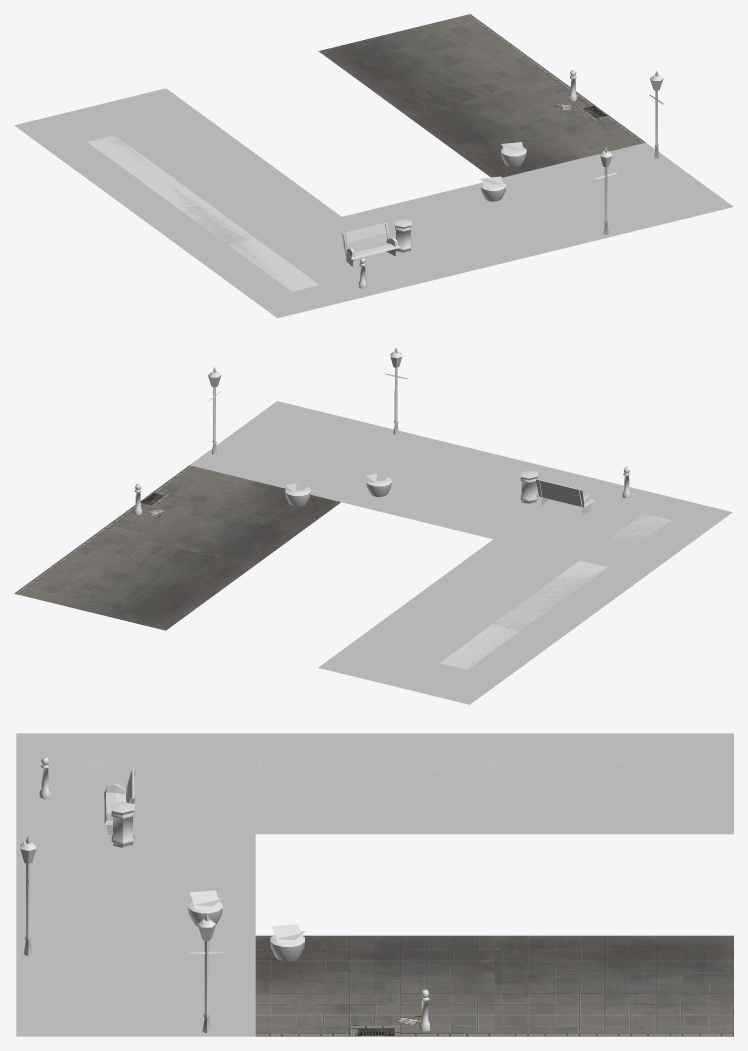
The model's file is propsonly_c8.gltf.
3 views of the same model, one above another, from view 1: azimuth 30°, elevation 25°; view 2: azimuth 150°, elevation 25°; view 3: azimuth 270°, elevation 25° (orthographic). The views are drawn at different scales.
Visible parts, largest first — view 1: file_c8_endr, file_c8_corner3, file_c8_center2, file_c8_passm, file_c8_passl, file_c8_center, file_c8_passr, FeedbackBlocker.015, prop_bench_c8, prop_flowerpot_c8_2, prop_flowerpot_c8_1, prop_trashcan_c8_1; view 2: file_c8_endr, file_c8_corner3, file_c8_center2, file_c8_passm, file_c8_passr, file_c8_passl, file_c8_center, FeedbackBlocker.015, prop_bench_c8; view 3: file_c8_passl, file_c8_endr, file_c8_passm, file_c8_corner3, file_c8_center2, file_c8_passr, file_c8_center, prop_flowerpot_c8_2, prop_trashcan_c8_1, prop_lightpost_c8_2, prop_flowerpot_c8_1, prop_bench_c8 (+1 smaller).
Part boxes in pixels (bbox=[...]): file_c8_endr: bbox=[318, 14, 557, 115]; file_c8_corner3: bbox=[502, 142, 733, 243]; file_c8_center2: bbox=[406, 78, 645, 177]; file_c8_passm: bbox=[102, 152, 341, 253]; file_c8_passl: bbox=[14, 88, 253, 189]; file_c8_center: bbox=[342, 182, 581, 280]; file_c8_passr: bbox=[190, 217, 429, 318]; FeedbackBlocker.015: bbox=[88, 135, 318, 291]; prop_bench_c8: bbox=[342, 222, 400, 266]; prop_flowerpot_c8_2: bbox=[500, 142, 526, 166]; prop_flowerpot_c8_1: bbox=[479, 176, 505, 201]; prop_trashcan_c8_1: bbox=[394, 219, 411, 252]; file_c8_endr: bbox=[14, 529, 253, 630]; file_c8_corner3: bbox=[190, 401, 428, 502]; file_c8_center2: bbox=[102, 465, 340, 566]; file_c8_passm: bbox=[406, 539, 644, 640]; file_c8_passr: bbox=[494, 475, 732, 576]; file_c8_passl: bbox=[318, 603, 556, 704]; file_c8_center: bbox=[342, 438, 580, 539]; FeedbackBlocker.015: bbox=[440, 514, 670, 669]; prop_bench_c8: bbox=[536, 479, 594, 515]; file_c8_passl: bbox=[494, 733, 733, 834]; file_c8_endr: bbox=[494, 935, 733, 1036]; file_c8_passm: bbox=[255, 733, 494, 834]; file_c8_corner3: bbox=[16, 935, 255, 1036]; file_c8_center2: bbox=[255, 935, 494, 1036]; file_c8_passr: bbox=[16, 733, 255, 834]; file_c8_center: bbox=[16, 834, 255, 935]; prop_flowerpot_c8_2: bbox=[270, 924, 304, 961]; prop_trashcan_c8_1: bbox=[111, 801, 134, 847]; prop_lightpost_c8_2: bbox=[189, 913, 224, 1033]; prop_flowerpot_c8_1: bbox=[188, 890, 222, 926]; prop_bench_c8: bbox=[104, 768, 136, 834].
Size of what is drawn, in the model's own units: 3 by 0.5636 by 3.01.
